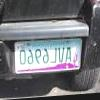License_Plate: (16, 39, 82, 74)
